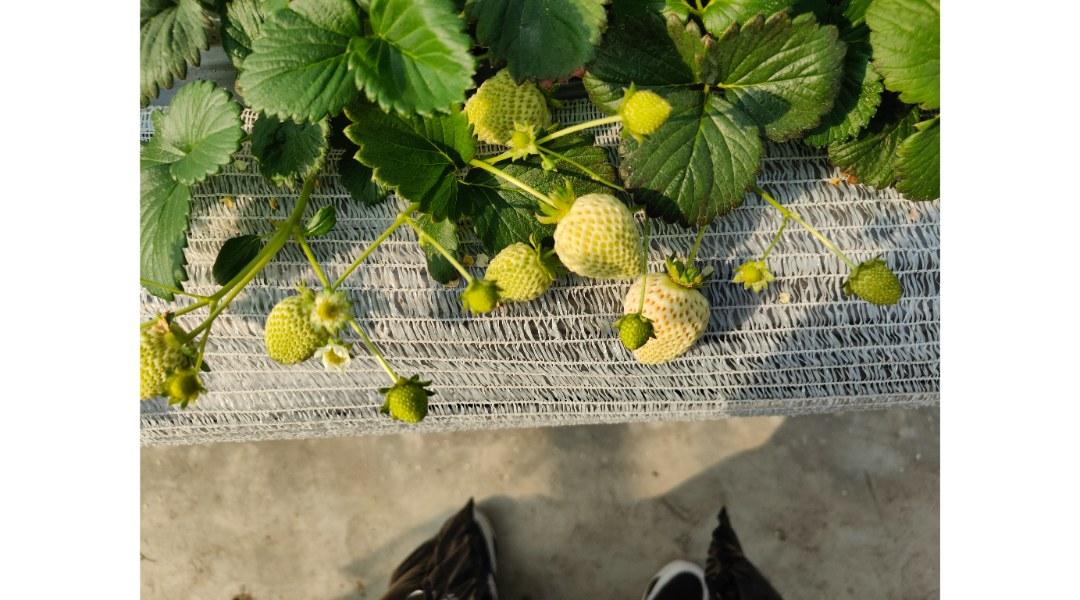berry: (97, 305, 219, 404), (535, 190, 664, 271), (450, 67, 562, 154), (626, 267, 717, 367), (478, 228, 564, 314), (256, 288, 326, 381), (834, 256, 903, 317), (373, 376, 445, 434), (619, 90, 683, 139), (600, 305, 668, 345), (456, 276, 515, 322), (729, 252, 780, 302), (502, 123, 540, 165), (168, 367, 198, 405)
strain: (747, 181, 856, 265), (335, 215, 400, 286), (408, 222, 470, 284), (354, 320, 398, 391), (480, 167, 550, 206), (545, 109, 633, 137), (297, 233, 327, 286), (759, 221, 783, 268)
